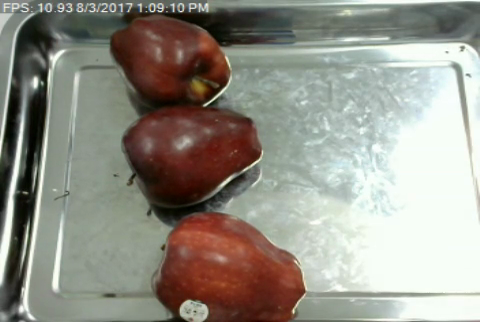Apple: (151, 208, 308, 322), (119, 104, 265, 212), (104, 12, 234, 111)
